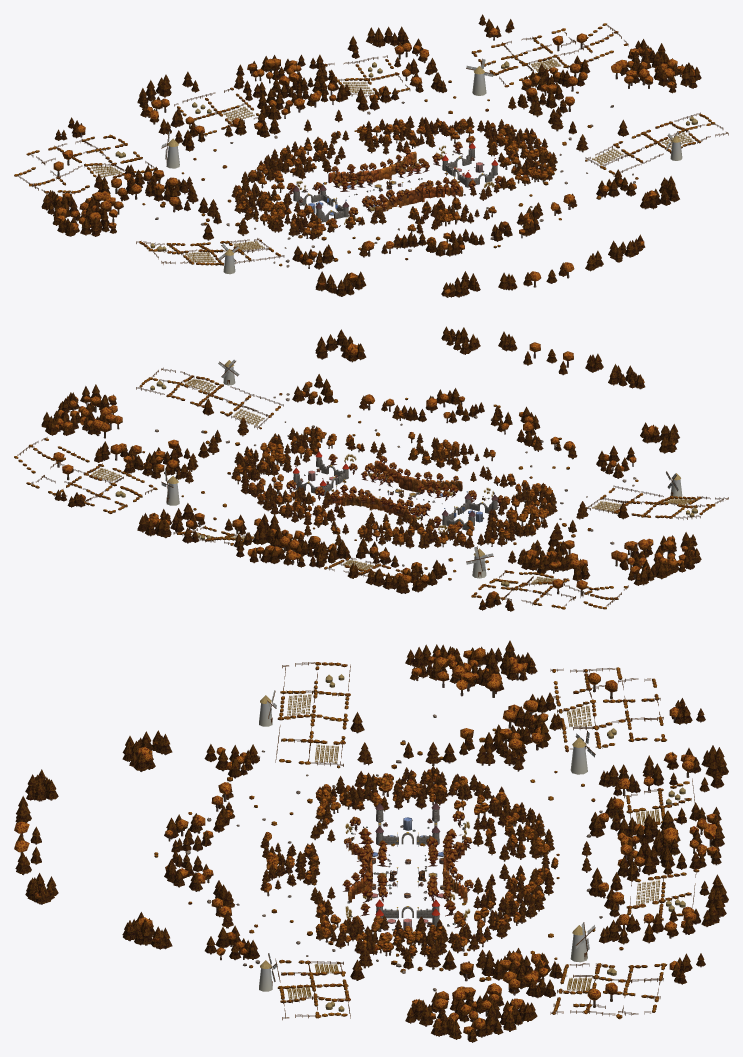
Rendered from hollow.glb.
3 views of the same model, one above another, from view 1: azimuth 30°, elevation 25°; view 2: azimuth 150°, elevation 25°; view 3: azimuth 270°, elevation 25° (orthographic). The views are drawn at different scales.
Parts seen in each view (by area): view 1: Props, TallGrass; view 2: Props, TallGrass; view 3: Props, TallGrass.
Boxes of the visible parts, left/top/right/bottom form: Props: left=14, top=14, right=728, bottom=297; TallGrass: left=91, top=59, right=693, bottom=262; Props: left=14, top=326, right=728, bottom=611; TallGrass: left=91, top=379, right=692, bottom=584; Props: left=14, top=640, right=728, bottom=1042; TallGrass: left=287, top=694, right=659, bottom=999.
Size of the model in its own units: 307 by 23.72 by 242.
26 materials, 26 textured.
